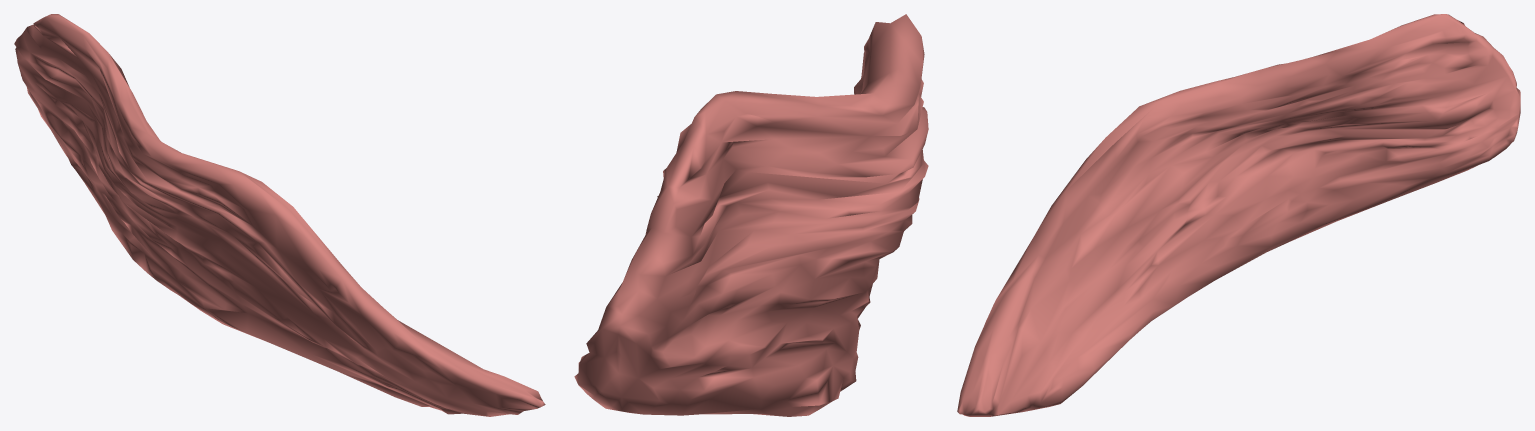
3 renders of one model, left to right at view 1: azimuth 30°, elevation 25°; view 2: azimuth 150°, elevation 25°; view 3: azimuth 270°, elevation 25°, orthographic. The views are drawn at different scales.
Visible parts, largest first — view 1: ZA_faf705c40cdb350f; view 2: ZA_faf705c40cdb350f; view 3: ZA_faf705c40cdb350f.
Boxes of the visible parts, x1,y1,x2,y2 form: ZA_faf705c40cdb350f: (14,14,545,416); ZA_faf705c40cdb350f: (574,14,928,416); ZA_faf705c40cdb350f: (957,14,1520,416).
Size of the model in its own units: 0.00884 by 0.00929 by 0.0158.
